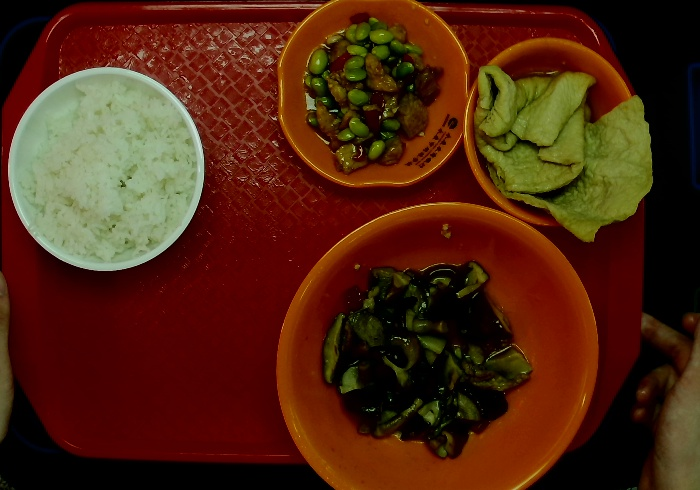YKMZ-Fan_Wan: (1, 63, 208, 275)
YKMZ-Ju_Se_Ao_Bian_Wan: (272, 1, 477, 193)
YKMZ-Ju_Se_Tang_Wan: (271, 198, 603, 490)
YKMZ-Ju_Se_Yuan_Wan: (458, 32, 645, 231)
